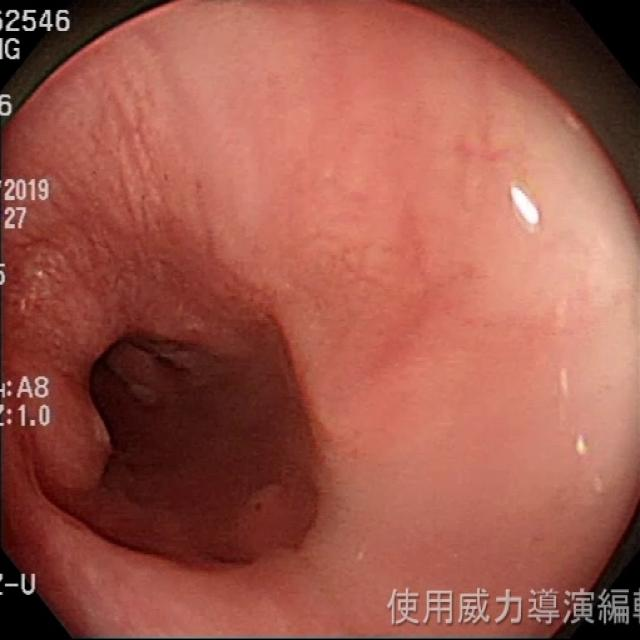E: (88, 331, 247, 507)
S: (388, 588, 640, 629), (3, 8, 73, 35), (3, 375, 53, 402), (2, 179, 51, 204), (2, 403, 51, 428), (3, 572, 38, 599), (2, 204, 29, 231), (3, 36, 23, 63), (2, 95, 14, 118)
U: (509, 180, 544, 235), (576, 433, 592, 464)
